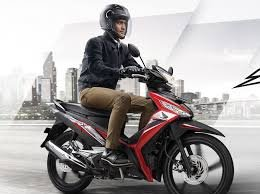motor: (51, 67, 235, 193)
